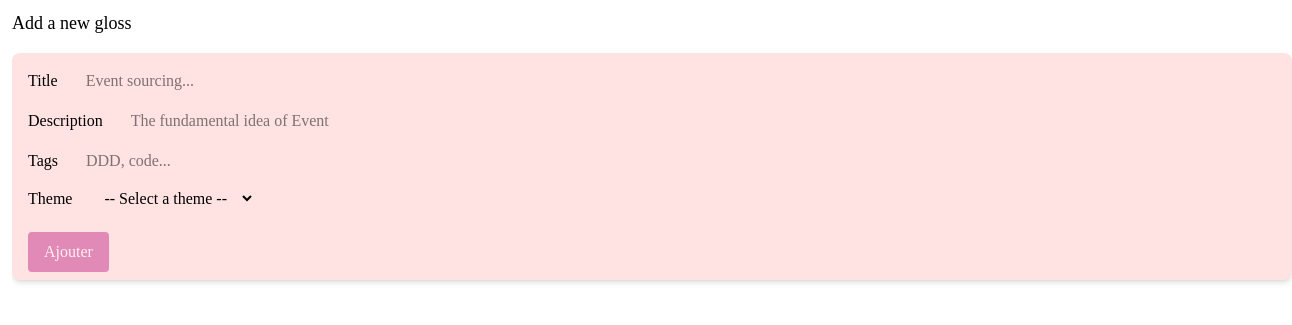
Test: Gloss Form Terms › on submit › should persist glose and display a success message on submit containing glose title
The image size is (1292, 325).
In the field named "title": coordinates (186, 81) x1=74 y1=61 x2=298 y2=101, type "TDD"
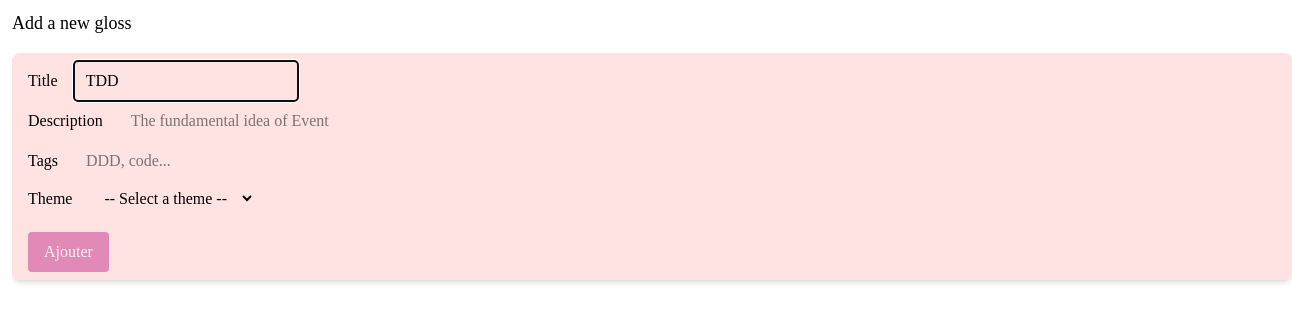
In the field named "description": coordinates (231, 121) x1=119 y1=101 x2=343 y2=141, type "Created by Kent Beck"
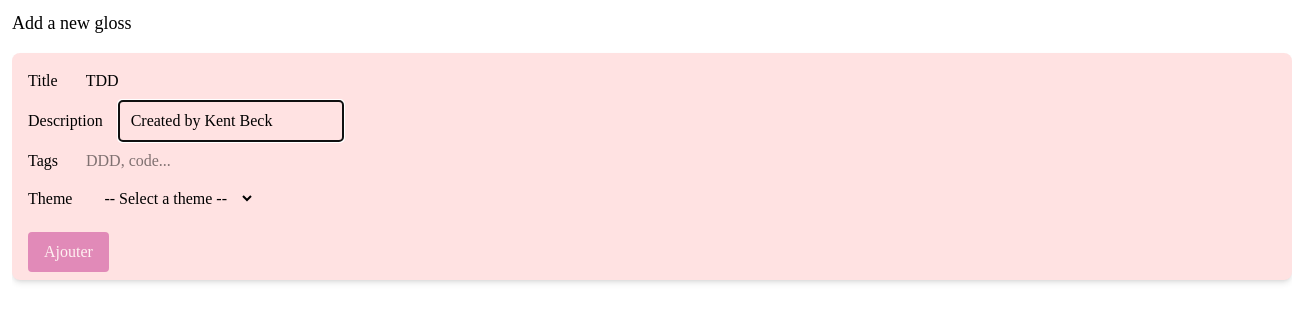
In the field named "tags": coordinates (186, 161) x1=74 y1=141 x2=298 y2=181, type "XP"
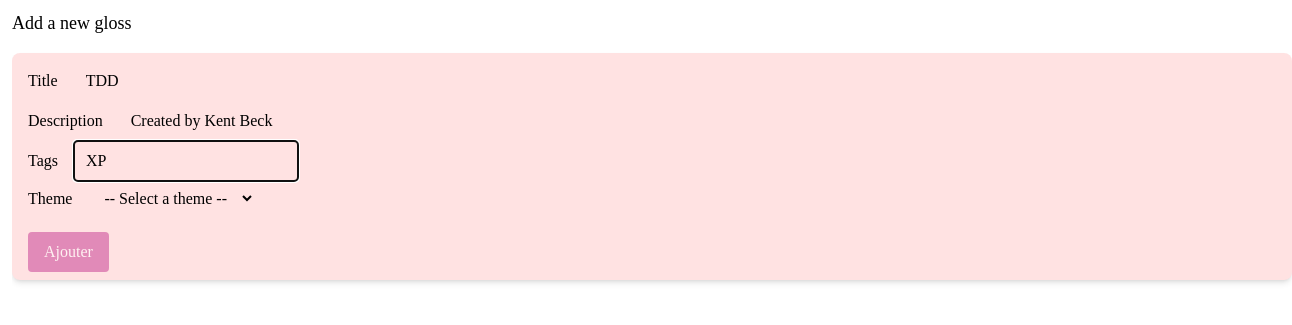
Select "CRAFT" in the dropdown labelled "Theme": coordinates (172, 198) x1=88 y1=181 x2=255 y2=216
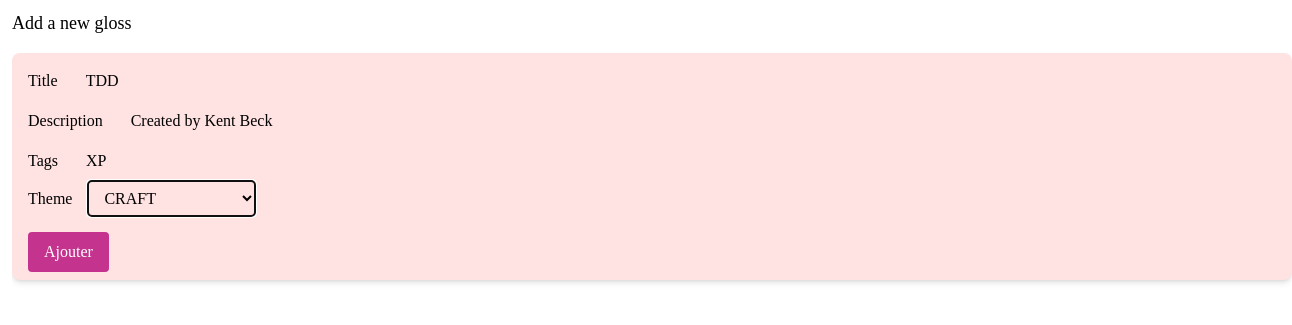
Click the button: coordinates (68, 252) x1=28 y1=232 x2=109 y2=272
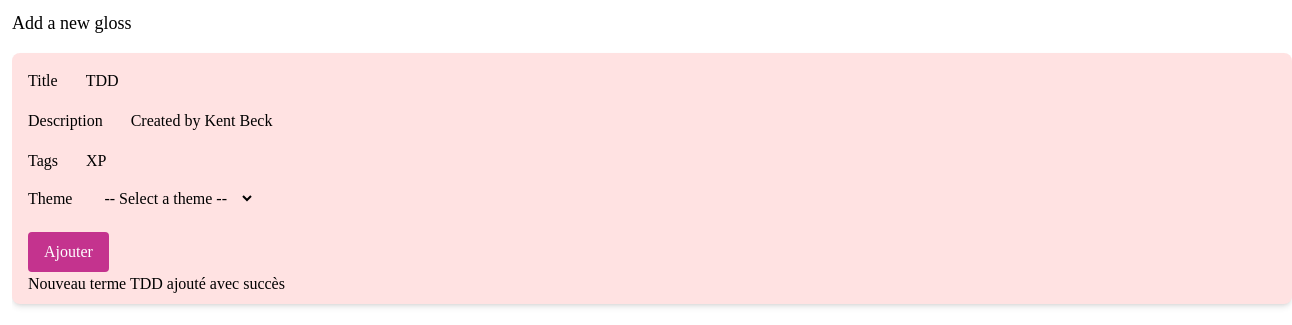
Check: the text "Nouveau terme TDD ajouté avec succès" is shown, box x1=28 y1=275 x2=285 y2=292
